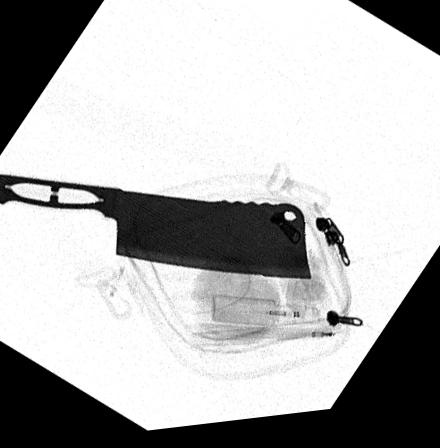Knife: (0, 172, 313, 287)
